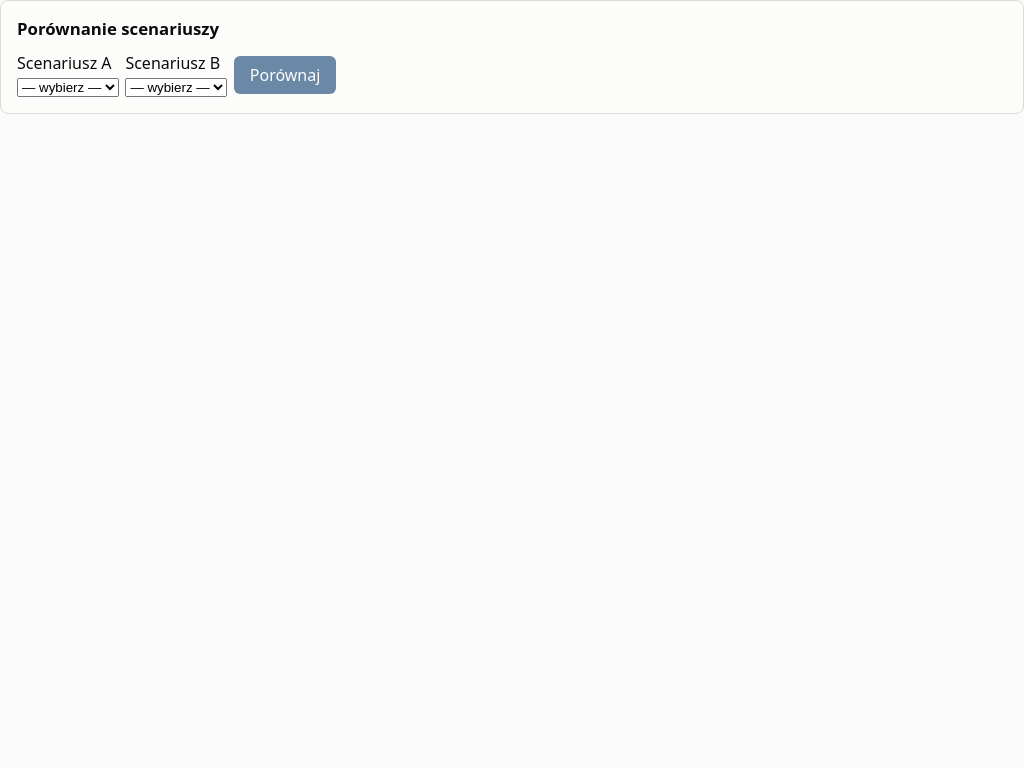
I-6: fixed simulation seed › CompareView uses the same shared seed
Select "A" in the dropdown labelled "Scenariusz A": (68, 88) [17,78,119,97]
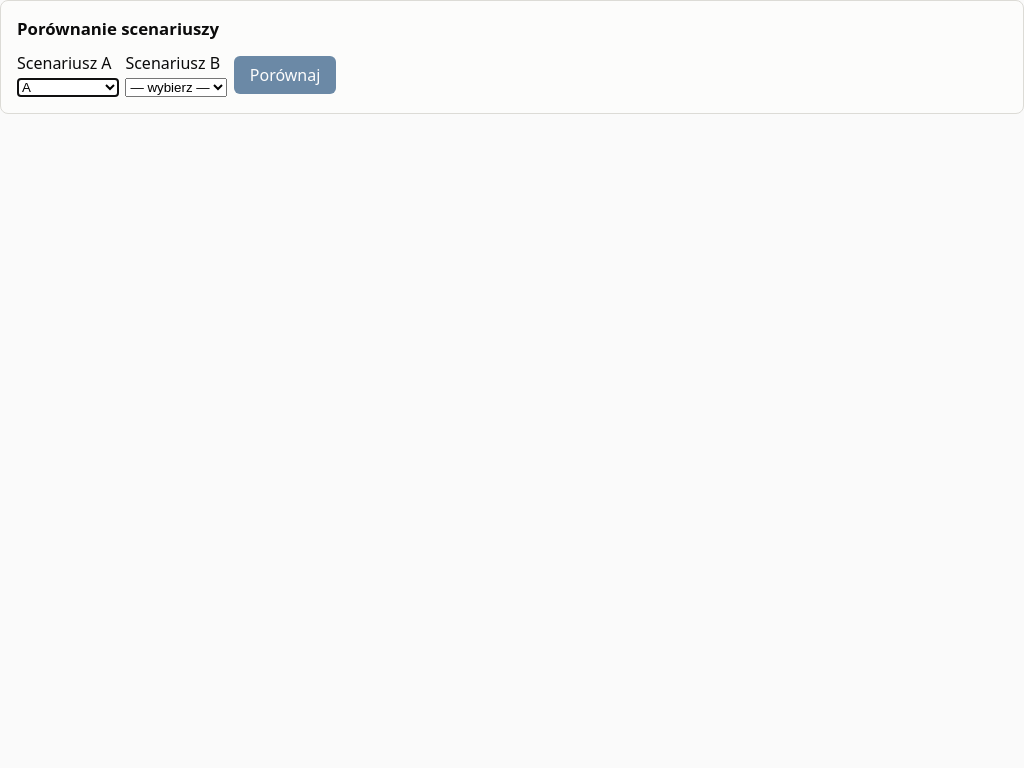
Select "B" in the dropdown labelled "Scenariusz B": (176, 88) [125,78,227,97]
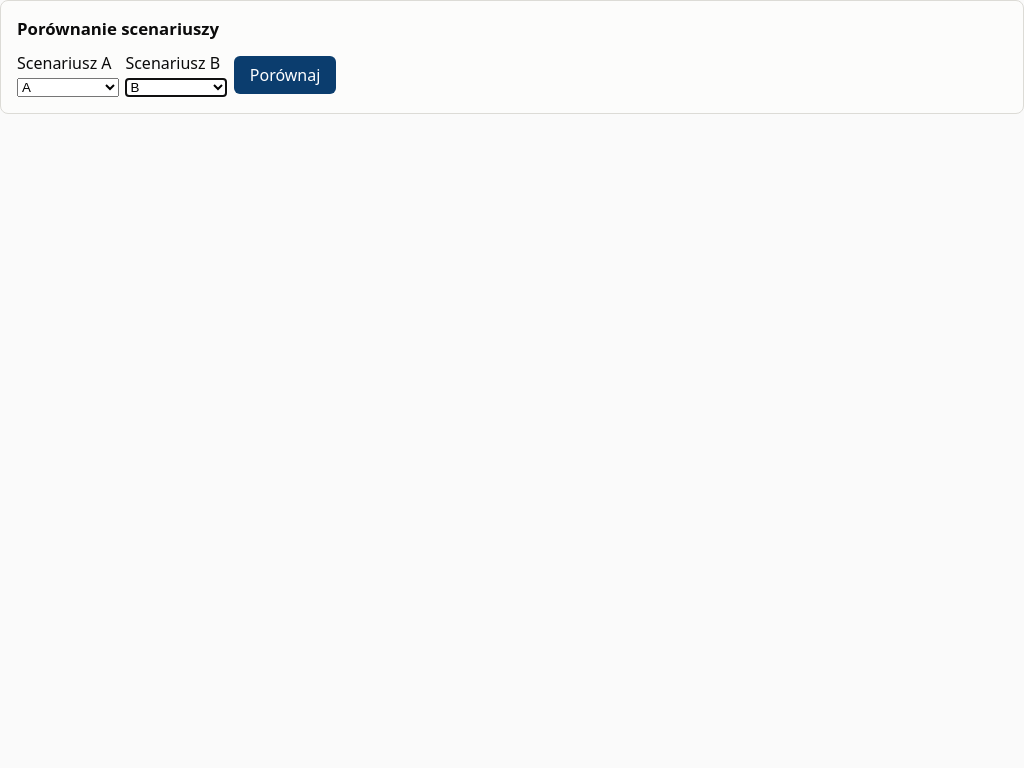
Click the button "Porównaj": (285, 74) [234,56,336,94]
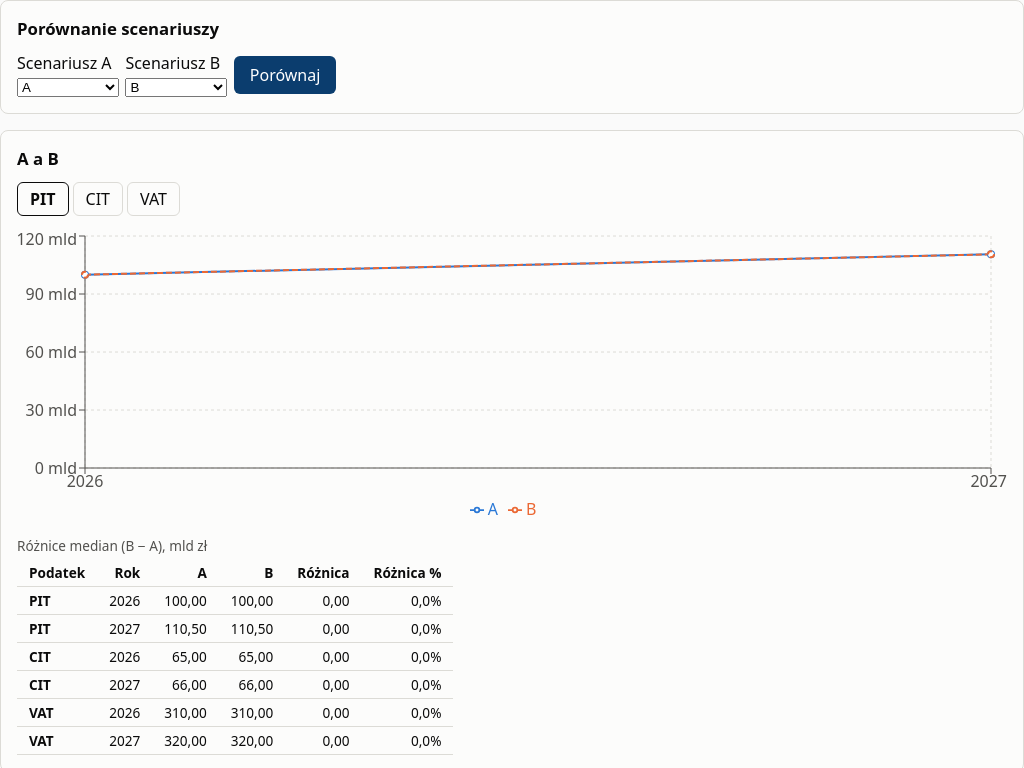
Expected: the table with test id "diff-table" is shown, [17,536,453,755]
